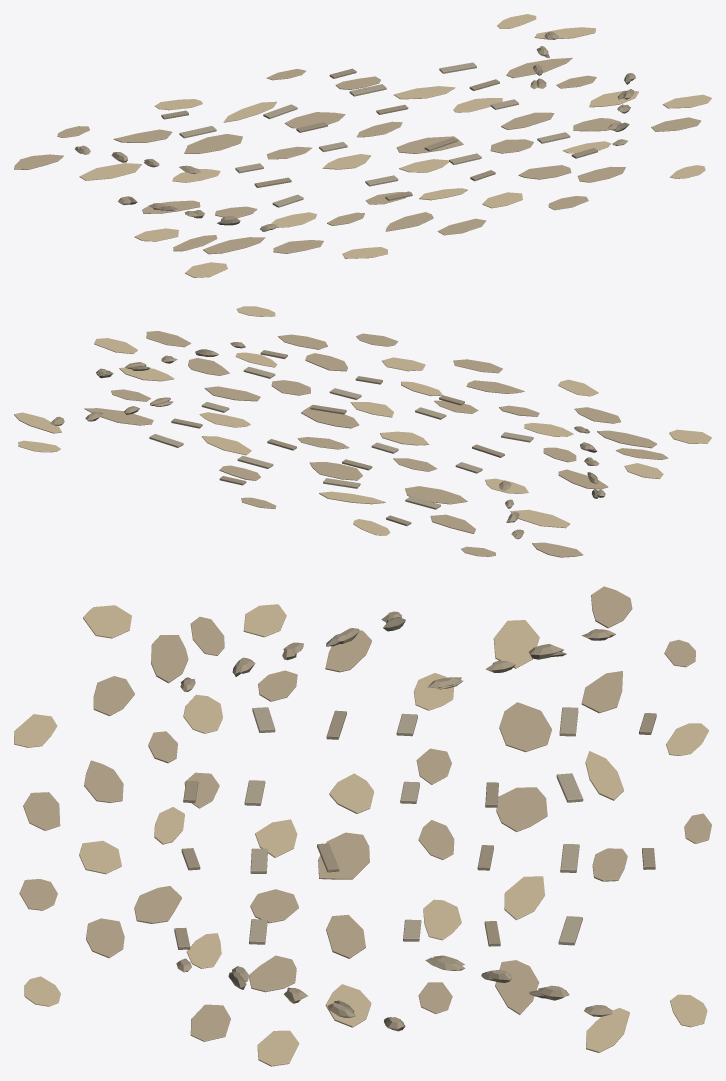
Rendered from palace-contact-terrain-set.glb.
3 renders of one model, top to bottom at view 1: azimuth 30°, elevation 25°; view 2: azimuth 150°, elevation 25°; view 3: azimuth 270°, elevation 25°, orthographic. The views are drawn at different scales.
Parts seen in each view (by area): view 1: palace_contact_broken_earth_7_1, palace_contact_broken_earth_7_0, palace_contact_broken_earth_5_3, palace_contact_broken_earth_7_2, palace_contact_broken_earth_7_4, palace_contact_broken_earth_2_0, palace_contact_broken_earth_7_3, palace_contact_broken_earth_2_3, palace_contact_broken_earth_5_4, palace_contact_broken_earth_8_1, palace_contact_broken_earth_8_0, palace_contact_broken_earth_1_2 (+20 smaller); view 2: palace_contact_broken_earth_7_1, palace_contact_broken_earth_7_2, palace_contact_broken_earth_5_3, palace_contact_broken_earth_7_0, palace_contact_broken_earth_7_4, palace_contact_broken_earth_2_0, palace_contact_broken_earth_5_4, palace_contact_broken_earth_2_3, palace_contact_broken_earth_7_3, palace_contact_broken_earth_1_2, palace_contact_broken_earth_8_0, palace_contact_broken_earth_8_5 (+18 smaller); view 3: palace_contact_broken_earth_7_1, palace_contact_broken_earth_7_2, palace_contact_broken_earth_5_3, palace_contact_broken_earth_7_0, palace_contact_broken_earth_7_4, palace_contact_broken_earth_2_0, palace_contact_broken_earth_2_3, palace_contact_broken_earth_7_3, palace_contact_broken_earth_5_4, palace_contact_broken_earth_4_5, palace_contact_broken_earth_8_5, palace_contact_broken_earth_8_0 (+32 smaller).
Part boxes in pixels (box(x1,y1,x2,y2)): palace_contact_broken_earth_7_1: box(184, 134, 242, 153); palace_contact_broken_earth_7_0: box(79, 163, 141, 180); palace_contact_broken_earth_5_3: box(396, 136, 463, 153); palace_contact_broken_earth_7_2: box(284, 112, 345, 128); palace_contact_broken_earth_7_4: box(506, 57, 572, 78); palace_contact_broken_earth_2_0: box(203, 237, 265, 254); palace_contact_broken_earth_7_3: box(393, 86, 455, 99); palace_contact_broken_earth_2_3: box(518, 165, 571, 179); palace_contact_broken_earth_5_4: box(501, 112, 554, 129); palace_contact_broken_earth_8_1: box(113, 129, 172, 142); palace_contact_broken_earth_8_0: box(14, 154, 63, 169); palace_contact_broken_earth_1_2: box(385, 212, 433, 231); palace_contact_broken_earth_7_1: box(405, 486, 467, 504); palace_contact_broken_earth_7_2: box(309, 462, 362, 480); palace_contact_broken_earth_5_3: box(301, 405, 359, 428); palace_contact_broken_earth_7_0: box(510, 509, 570, 528); palace_contact_broken_earth_7_4: box(84, 408, 153, 425); palace_contact_broken_earth_2_0: box(597, 430, 656, 448); palace_contact_broken_earth_5_4: box(204, 386, 260, 401); palace_contact_broken_earth_2_3: box(305, 353, 347, 371); palace_contact_broken_earth_7_3: box(201, 436, 251, 455); palace_contact_broken_earth_1_2: box(466, 380, 524, 393); palace_contact_broken_earth_8_0: box(532, 542, 583, 557); palace_contact_broken_earth_8_5: box(14, 412, 61, 433); palace_contact_broken_earth_7_1: box(499, 702, 551, 752); palace_contact_broken_earth_7_2: box(496, 787, 547, 831); palace_contact_broken_earth_5_3: box(318, 832, 369, 879); palace_contact_broken_earth_7_0: box(493, 620, 539, 668); palace_contact_broken_earth_7_4: box(495, 960, 539, 1014); palace_contact_broken_earth_2_0: box(151, 635, 188, 683); palace_contact_broken_earth_2_3: box(134, 886, 181, 923); palace_contact_broken_earth_7_3: box(504, 876, 544, 920); palace_contact_broken_earth_5_4: box(326, 914, 365, 958); palace_contact_broken_earth_4_5: box(249, 955, 296, 992); palace_contact_broken_earth_8_5: box(586, 1008, 629, 1052); palace_contact_broken_earth_8_0: box(591, 586, 632, 628).
Size of the model in its own units: 16.68 by 0.2295 by 10.28.
